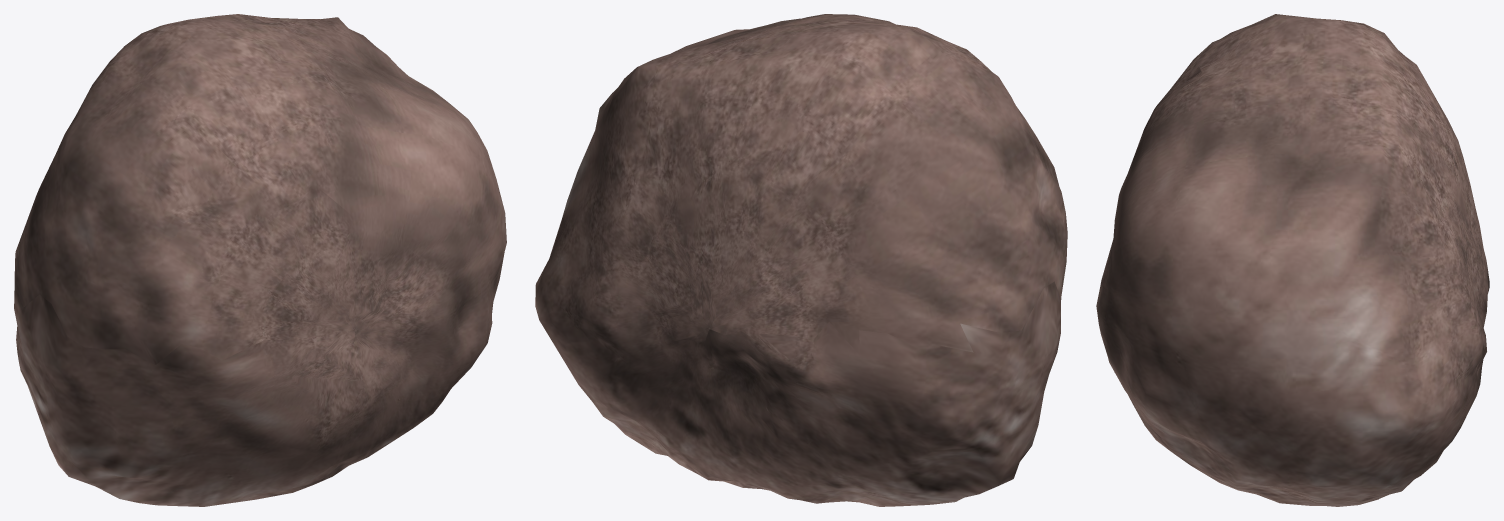
Rendered from janus - thumbnail.dae.
3 views of the same model, side by side, from view 1: azimuth 30°, elevation 25°; view 2: azimuth 150°, elevation 25°; view 3: azimuth 270°, elevation 25° (orthographic). The views are drawn at different scales.
Parts seen in each view (by area): view 1: obj_0; view 2: obj_0; view 3: obj_0.
Part boxes in pixels (x1,y1,x2,y2): obj_0: (14, 14, 506, 506); obj_0: (535, 14, 1067, 506); obj_0: (1096, 14, 1489, 506).
Size of the model in its own units: 1.92 by 1.55 by 1.93.
Materials: 1 (1 with a texture image).
